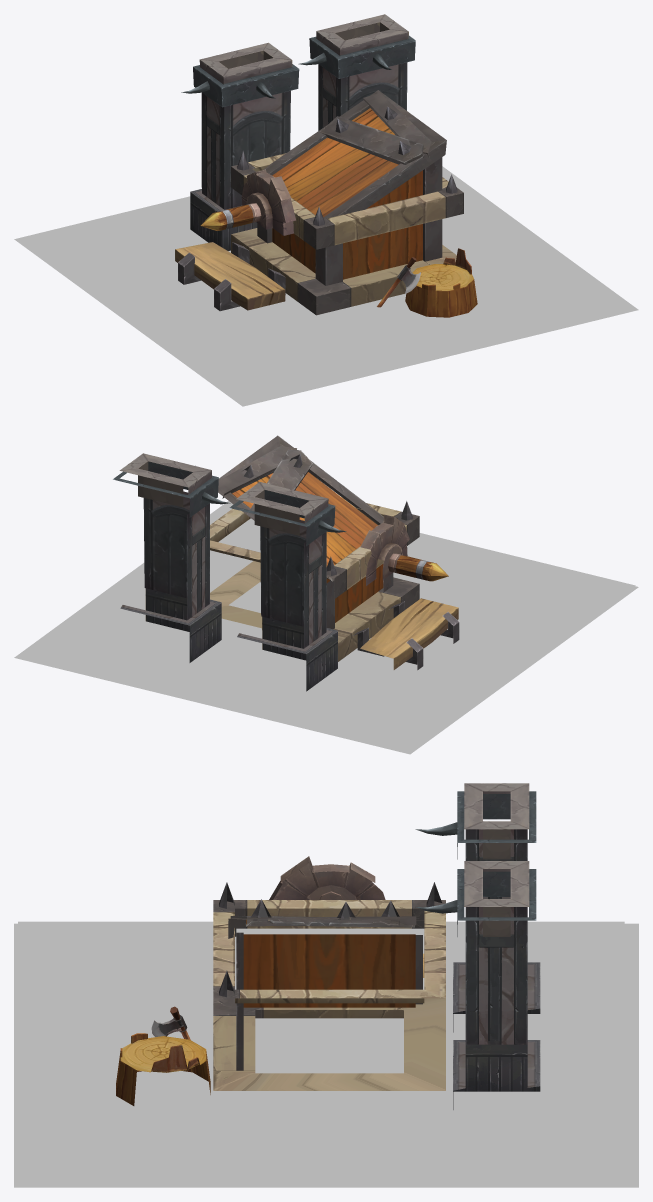
Rendered from The main city_023_LV09.FBX.
3 views of the same model, one above another, from view 1: azimuth 30°, elevation 25°; view 2: azimuth 150°, elevation 25°; view 3: azimuth 270°, elevation 25° (orthographic). The views are drawn at different scales.
Parts seen in each view (by area): view 1: The main city_023_LV09; view 2: The main city_023_LV09; view 3: The main city_023_LV09.
Boxes of the visible parts, x1,y1,x2,y2 form: The main city_023_LV09: (14,14,638,406); The main city_023_LV09: (14,435,638,754); The main city_023_LV09: (14,783,638,1187).
Size of the model in its own units: 59.9 by 25.25 by 59.9.
